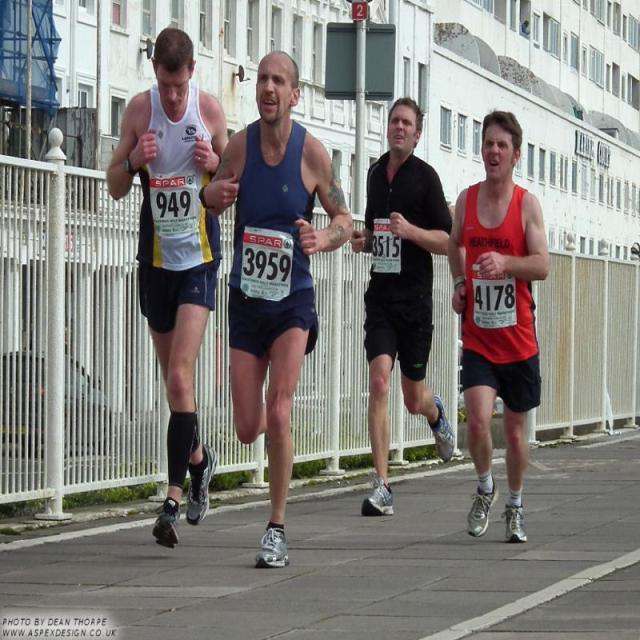dorsal: (237, 216, 297, 308), (466, 254, 524, 336), (146, 168, 208, 238), (369, 214, 410, 276)
